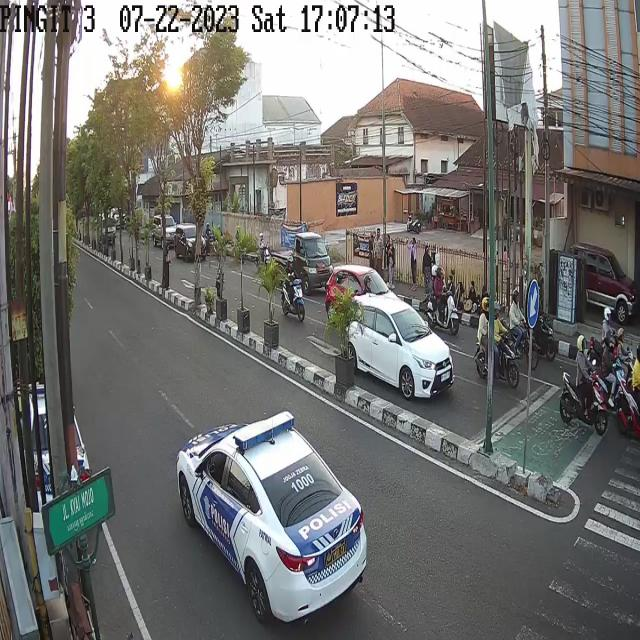car: (173, 410, 374, 625), (331, 282, 455, 403), (576, 244, 638, 327), (326, 263, 404, 328), (175, 222, 208, 264), (152, 212, 178, 248)
motorcycle: (559, 335, 606, 436), (477, 295, 518, 390), (520, 276, 558, 360), (504, 288, 538, 370), (428, 265, 460, 336), (281, 258, 305, 325), (255, 232, 271, 272)
truck: (271, 232, 333, 290)
